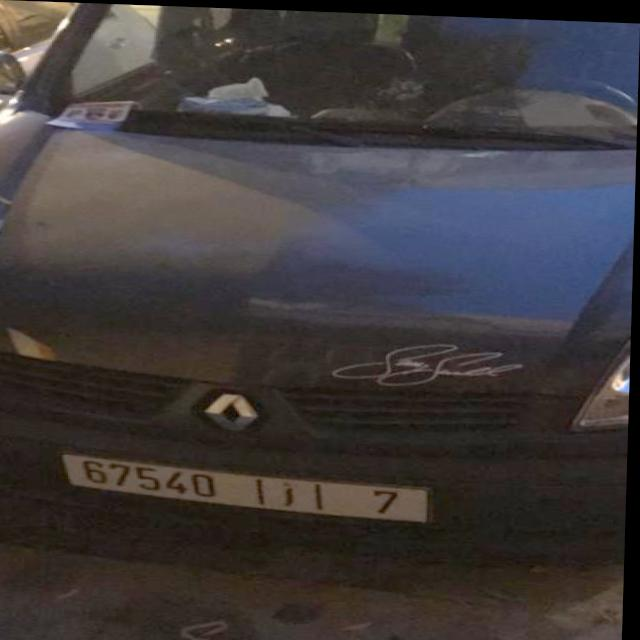License-Plate: (65, 454, 428, 518)
